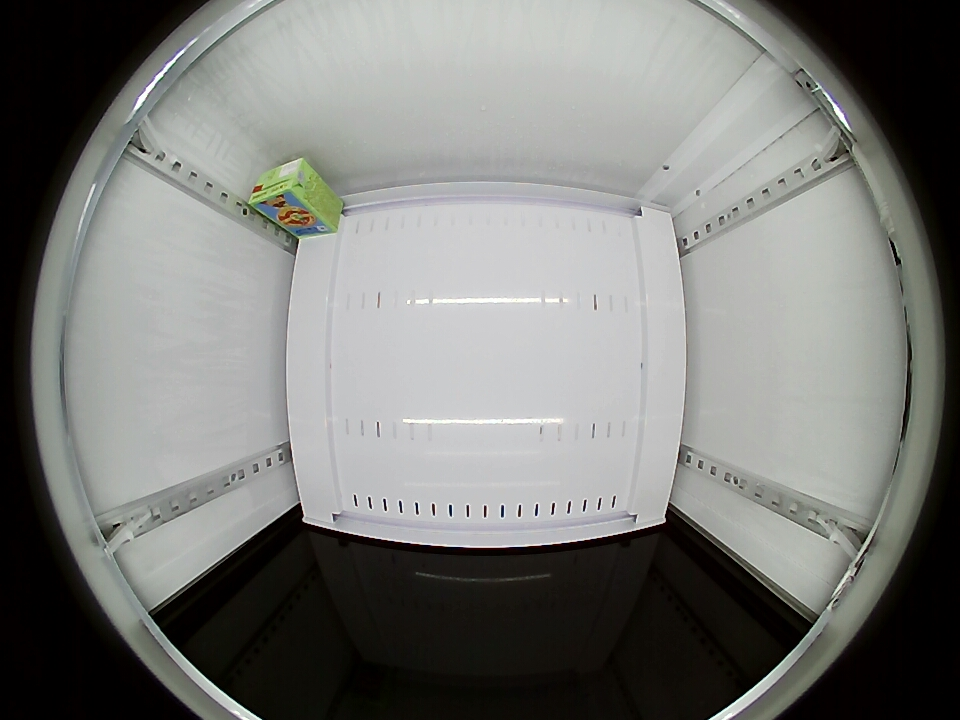wanglaoji: (248, 157, 318, 215)
